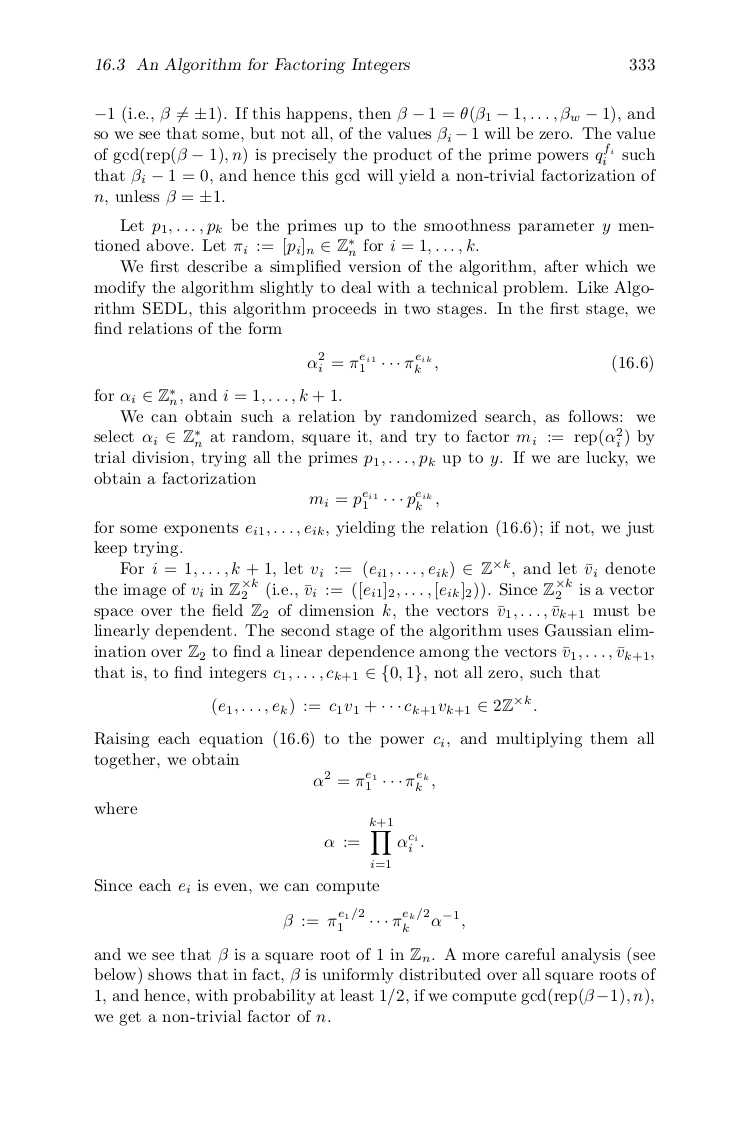formula: (307, 351, 652, 373), (212, 694, 536, 716), (324, 817, 423, 867), (283, 907, 464, 932), (309, 490, 438, 510), (313, 771, 434, 790)
